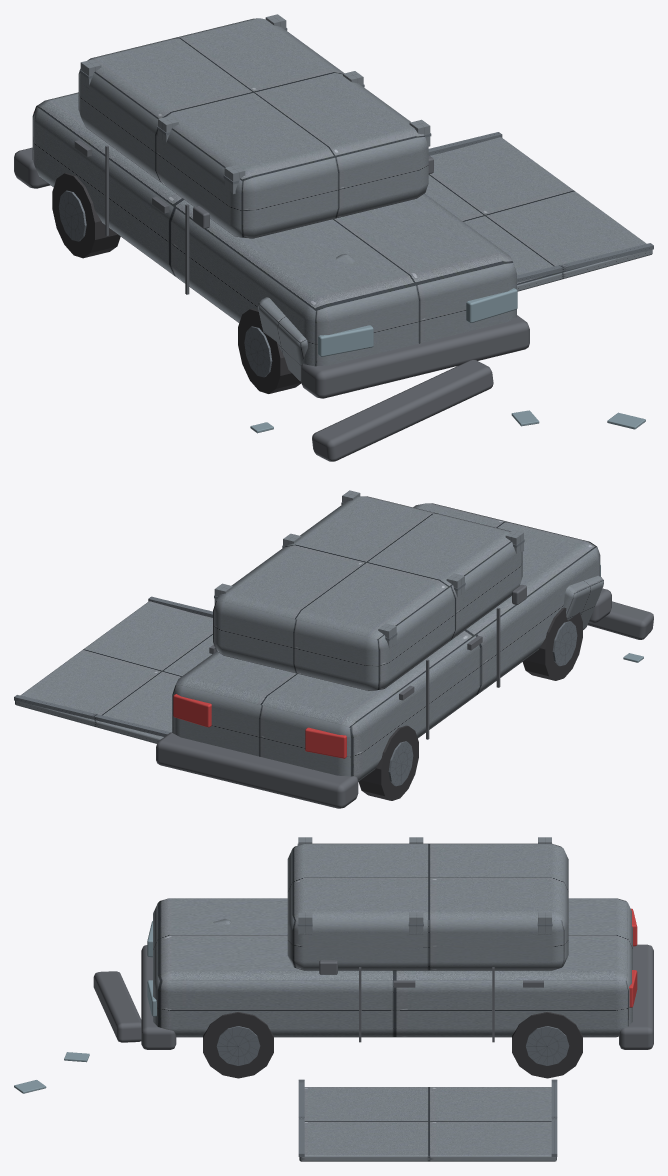
File: fire-and-emergency-services-damaged-car-roof-removed-d3c28ed2__29930.glb
3 renders of one model, top to bottom at view 1: azimuth 30°, elevation 25°; view 2: azimuth 150°, elevation 25°; view 3: azimuth 270°, elevation 25°, orthographic. The views are drawn at different scales.
Parts seen in each view (by area): view 1: damaged-car-roof-removed; view 2: damaged-car-roof-removed; view 3: damaged-car-roof-removed.
Boxes of the visible parts, x1=… form: damaged-car-roof-removed: x1=14, y1=14, x2=653, y2=461; damaged-car-roof-removed: x1=14, y1=490, x2=653, y2=808; damaged-car-roof-removed: x1=14, y1=837, x2=653, y2=1161.
Size of the model in its own units: 3.92 by 1.53 by 5.47.
Materials: 6 (2 with a texture image).
